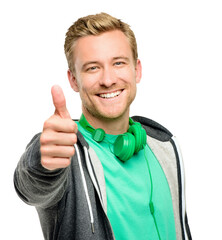young: (59, 12, 154, 122)
